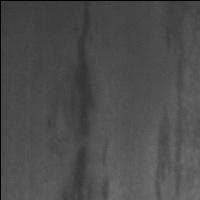inclusion: (58, 4, 95, 199), (152, 52, 190, 200), (94, 134, 114, 200)
